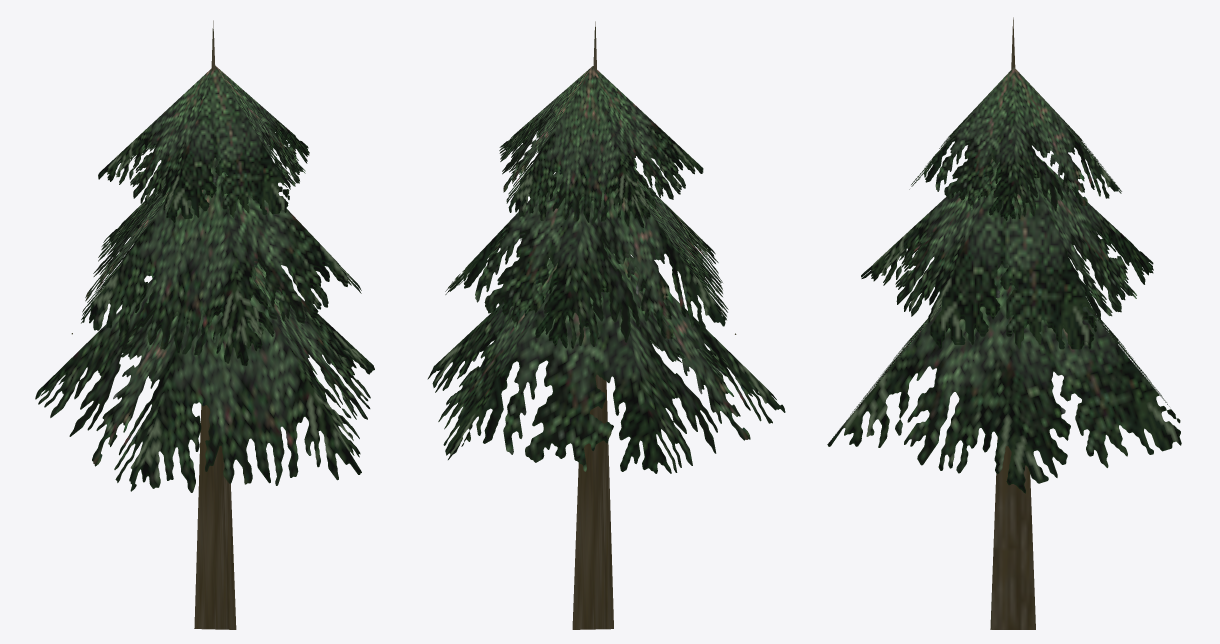
The model's file is pine1.glb.
3 renders of one model, left to right at view 1: azimuth 30°, elevation 25°; view 2: azimuth 150°, elevation 25°; view 3: azimuth 270°, elevation 25°, orthographic.
Parts seen in each view (by area): view 1: Pinetree; view 2: Pinetree; view 3: Pinetree.
Part boxes in pixels (bbox=[...]): Pinetree: bbox=[35, 20, 374, 629]; Pinetree: bbox=[427, 21, 785, 629]; Pinetree: bbox=[827, 17, 1181, 629].
Bounding box in the file's own units: 6.1 × 11.19 × 6.38.
Materials: 1 (1 with a texture image).
